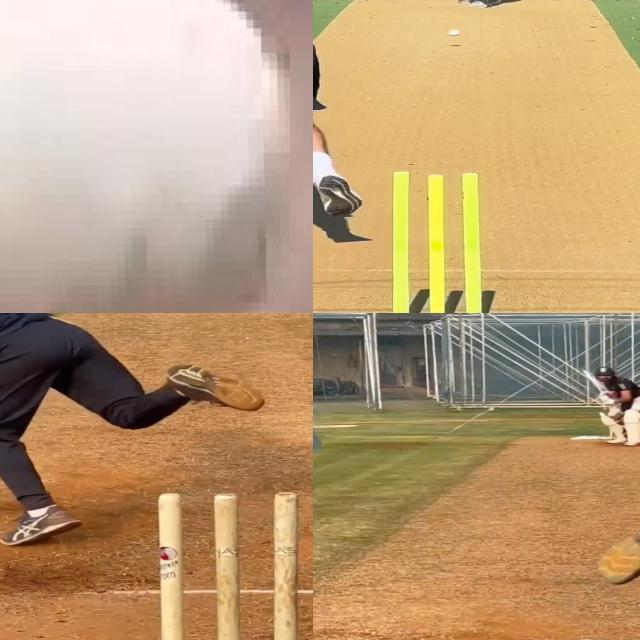Cricket ball: (0, 0, 289, 313), (448, 28, 461, 37), (606, 392, 617, 398)
Stumps: (157, 491, 299, 640), (373, 169, 501, 313)
